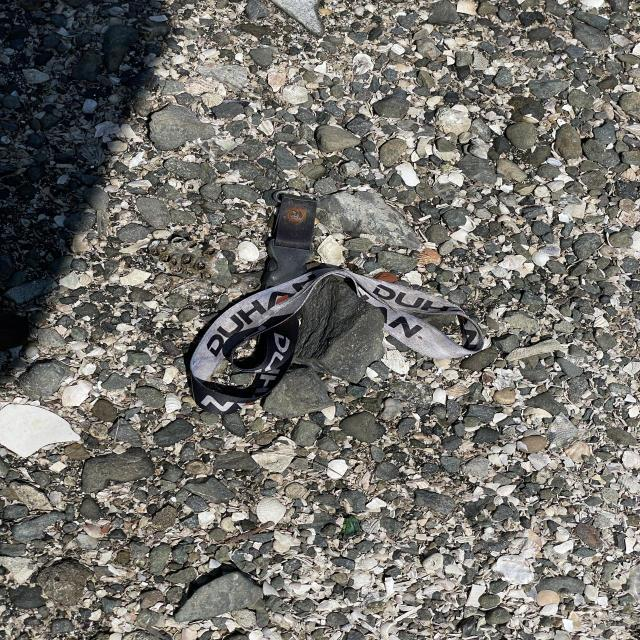textile_waste: (184, 193, 491, 415)
